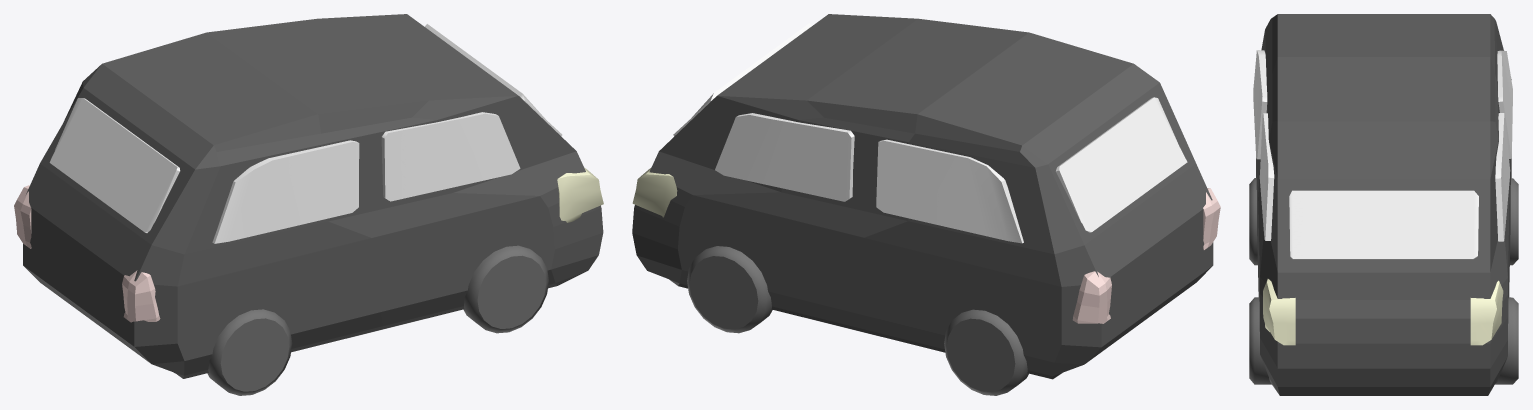
The model's file is CarroNegro.fbx.
3 renders of one model, left to right at view 1: azimuth 30°, elevation 25°; view 2: azimuth 150°, elevation 25°; view 3: azimuth 270°, elevation 25°, orthographic. The views are drawn at different scales.
Parts seen in each view (by area): view 1: pCube1, pCube7, pCube10, pCube8, pCylinder1, pCylinder2, pCube11, pCube9, pCube6; view 2: pCube1, pCube4, pCube10, pCube12, pCylinder3, pCylinder4, pCube11, pCube9, pCube6; view 3: pCube1, pCube6, pCube9, pCube12, pCube8, pCube4, pCube7, pCylinder1, pCylinder3, pCylinder4, pCylinder2.
Part boxes in pixels (x1=…): pCube1: x1=23, y1=14, x2=603, y2=378; pCube7: x1=212, y1=140, x2=359, y2=243; pCube10: x1=49, y1=98, x2=180, y2=232; pCube8: x1=381, y1=112, x2=520, y2=201; pCylinder1: x1=463, y1=245, x2=548, y2=333; pCylinder2: x1=207, y1=309, x2=292, y2=395; pCube11: x1=14, y1=185, x2=160, y2=322; pCube9: x1=557, y1=168, x2=603, y2=222; pCube6: x1=425, y1=24, x2=562, y2=136; pCube1: x1=632, y1=14, x2=1213, y2=379; pCube4: x1=876, y1=139, x2=1023, y2=243; pCube10: x1=1056, y1=97, x2=1187, y2=232; pCube12: x1=715, y1=113, x2=854, y2=201; pCylinder3: x1=687, y1=246, x2=772, y2=333; pCylinder4: x1=944, y1=309, x2=1028, y2=395; pCube11: x1=1072, y1=188, x2=1220, y2=323; pCube9: x1=632, y1=168, x2=677, y2=217; pCube6: x1=673, y1=23, x2=811, y2=136; pCube1: x1=1256, y1=14, x2=1511, y2=395; pCube6: x1=1289, y1=190, x2=1478, y2=259; pCube9: x1=1263, y1=279, x2=1503, y2=345; pCube12: x1=1495, y1=113, x2=1510, y2=241; pCube8: x1=1259, y1=113, x2=1274, y2=240; pCube4: x1=1497, y1=50, x2=1512, y2=158; pCube7: x1=1253, y1=50, x2=1267, y2=159; pCylinder1: x1=1249, y1=297, x2=1271, y2=384; pCylinder3: x1=1495, y1=297, x2=1518, y2=384; pCylinder4: x1=1510, y1=178, x2=1518, y2=265; pCylinder2: x1=1249, y1=178, x2=1257, y2=265.
Size of the model in its own units: 21.46 by 10.94 by 11.09.
